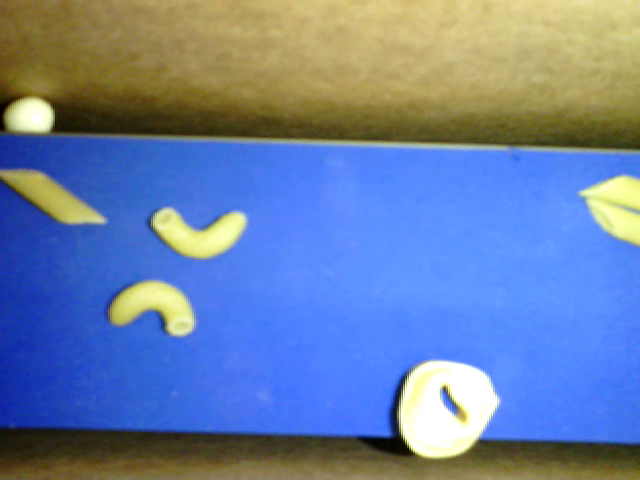elbow: (151, 205, 247, 257), (106, 278, 196, 333)
penne: (1, 166, 108, 225), (586, 197, 639, 247), (578, 174, 639, 211)
tortellini: (396, 357, 502, 458)
